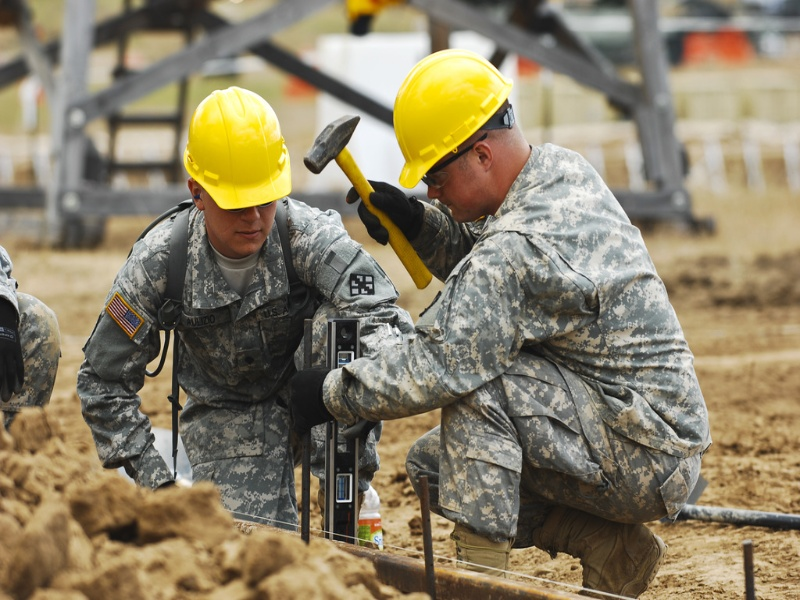Baret: (392, 48, 516, 187), (184, 86, 294, 211)
